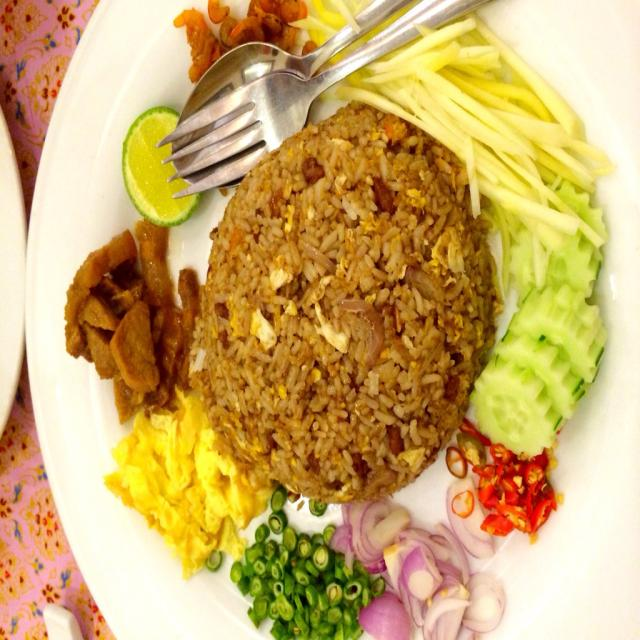Lemon: (120, 104, 204, 231)
